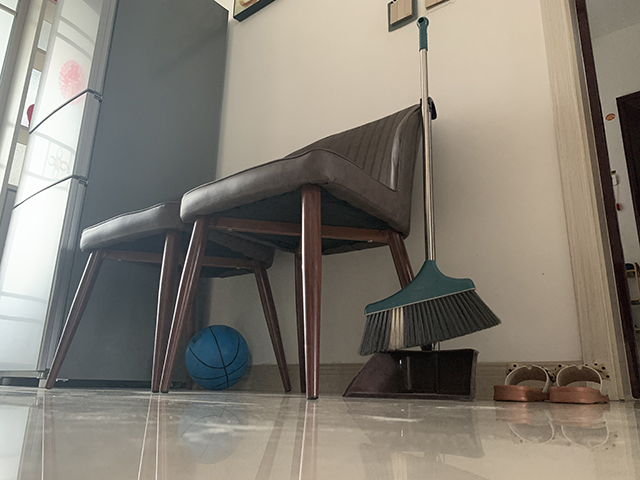slippers: (492, 361, 549, 406), (550, 361, 607, 406)
stool: (158, 103, 433, 399), (45, 200, 293, 395)
